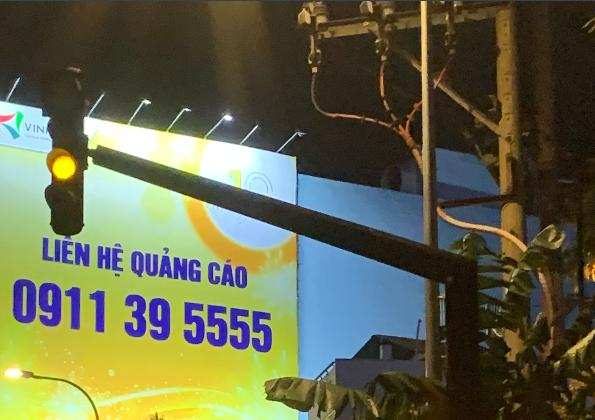yellow_light: (45, 114, 84, 235)
